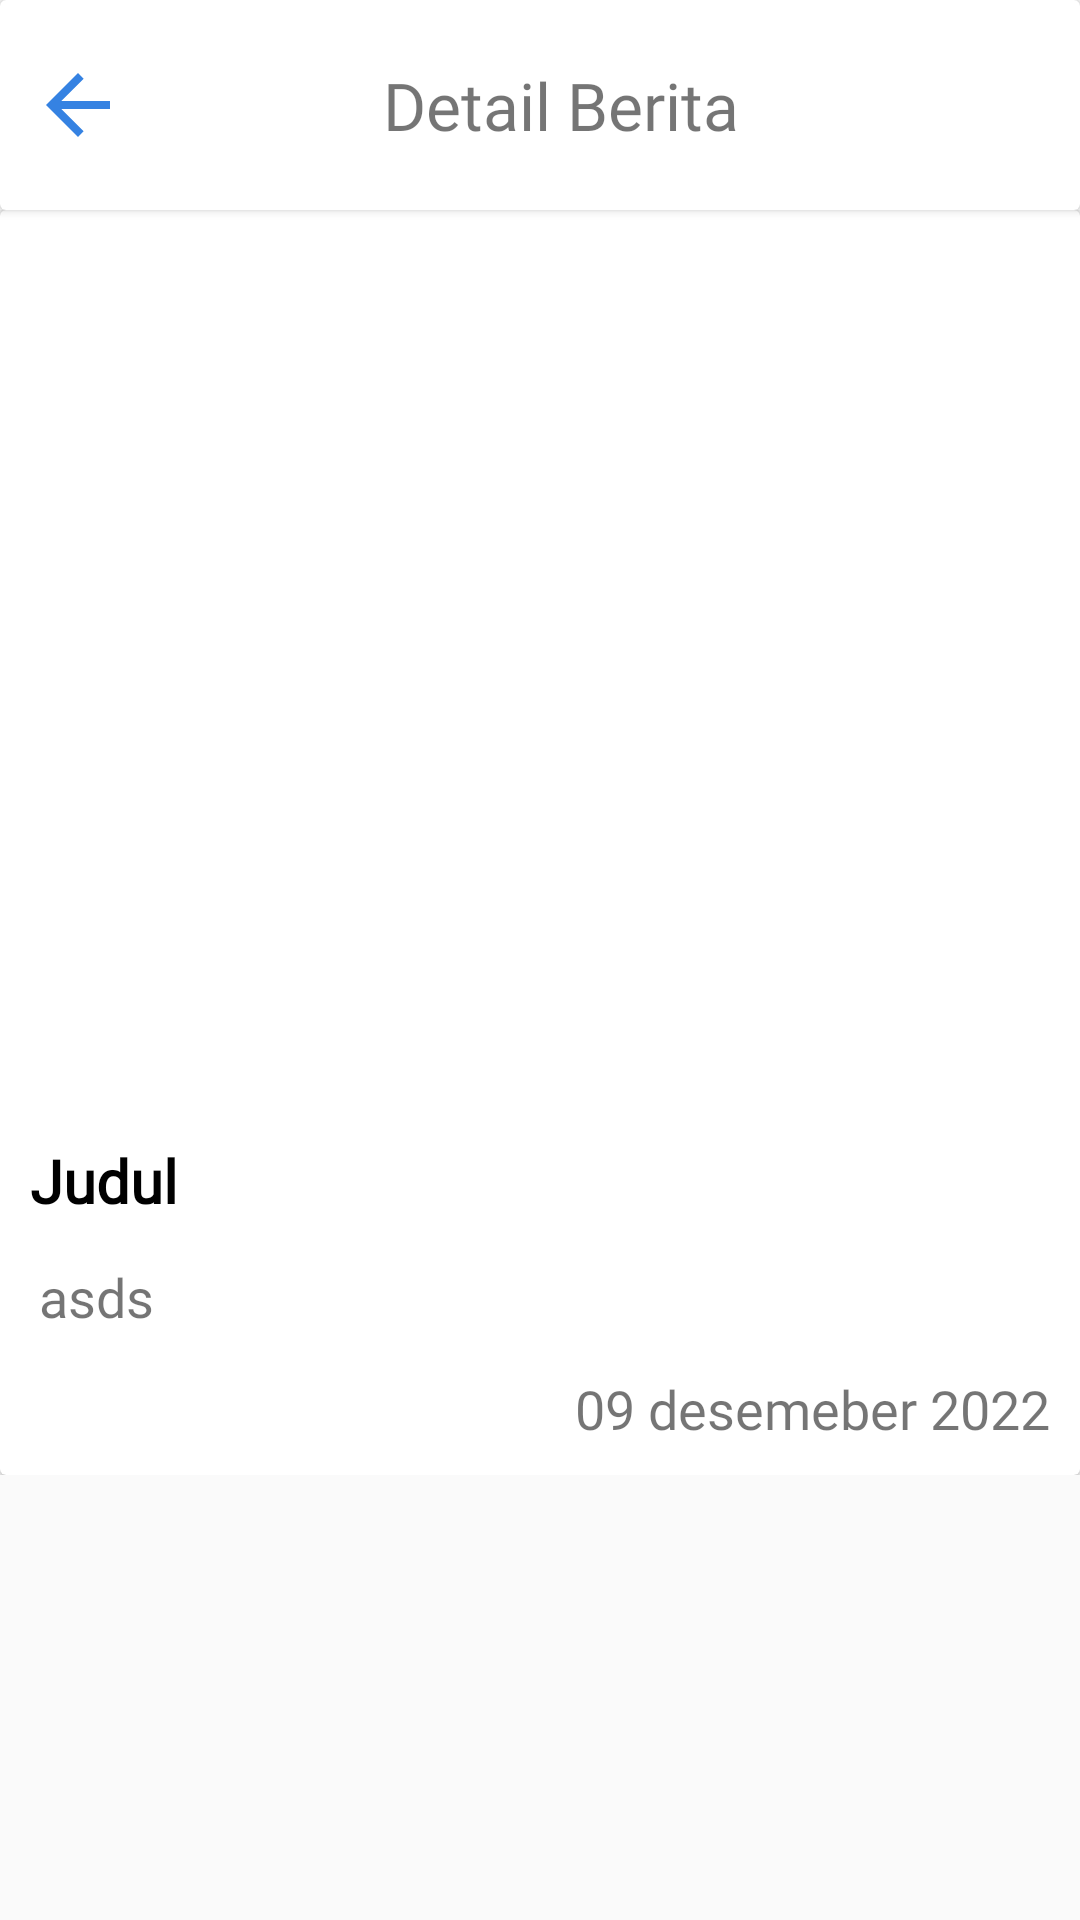

Named icons in this screenshot (1080w x 1920h) and their centers, (x=x, y=y):
arrow back: (x=78, y=105)
